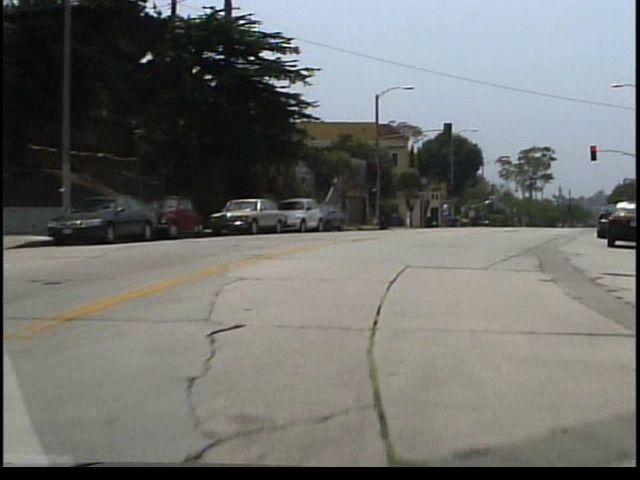person: (444, 202, 454, 230)
